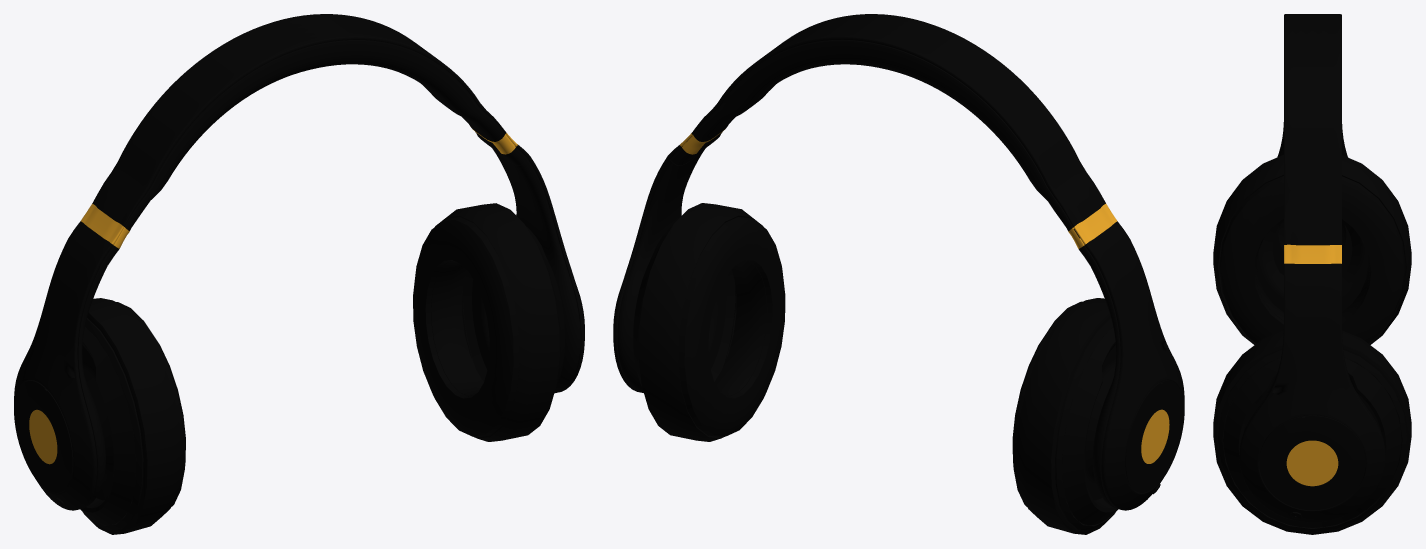
The picture shows the model from 3 angles, left to right: view 1: azimuth 30°, elevation 25°; view 2: azimuth 150°, elevation 25°; view 3: azimuth 270°, elevation 25°; orthographic projection. The views are drawn at different scales.
Visible parts, largest first — view 1: Mid_Ear_part_leather; view 2: Mid_Ear_part_leather; view 3: Mid_Ear_part_leather.
Boxes of the visible parts, x1,y1,x2,y2 form: Mid_Ear_part_leather: (14,14,584,534); Mid_Ear_part_leather: (613,14,1184,534); Mid_Ear_part_leather: (1213,14,1411,534).
Bounding box in the file's own units: 149 × 123 × 53.92.
